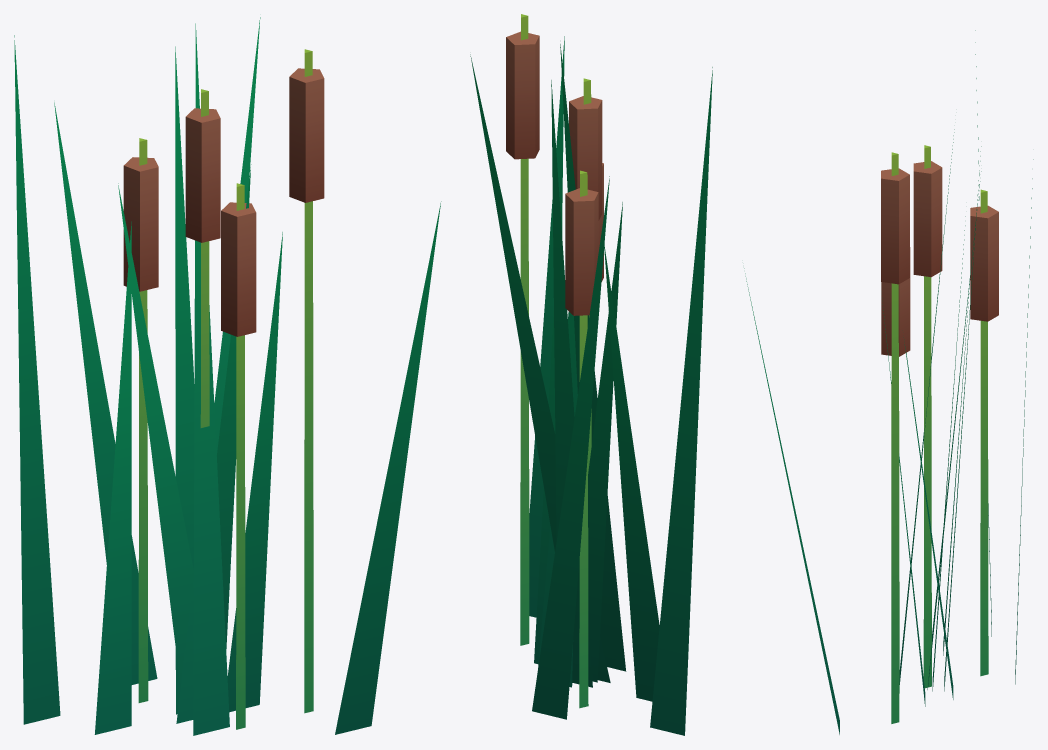
The model's file is reeds.glb.
The picture shows the model from 3 angles, left to right: view 1: azimuth 30°, elevation 25°; view 2: azimuth 150°, elevation 25°; view 3: azimuth 270°, elevation 25°; orthographic projection. The views are drawn at different scales.
Parts seen in each view (by area): view 1: reeds; view 2: reeds; view 3: reeds.
Part boxes in pixels (box(x1,y1,x2,y2)): reeds: box(14, 17, 441, 735); reeds: box(470, 14, 712, 735); reeds: box(744, 30, 1033, 734).
Size of the model in its own units: 0.635 by 1.46 by 0.6417.
Materials: 1 (1 with a texture image).
